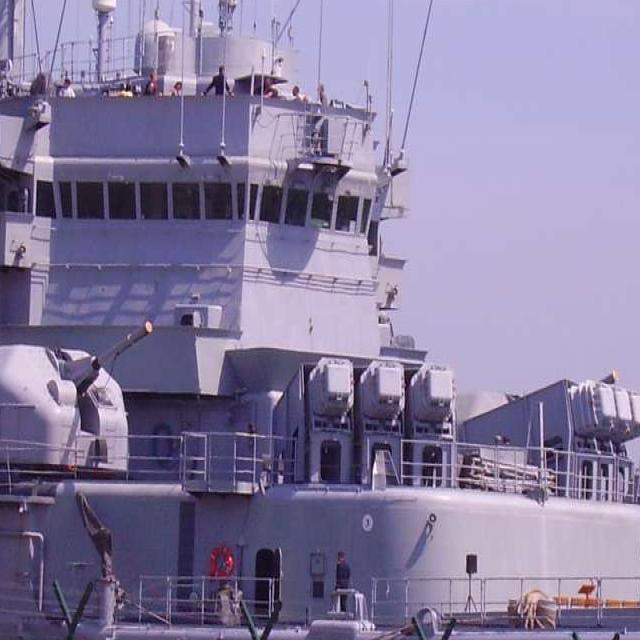Portanaves: (1, 1, 640, 617)
